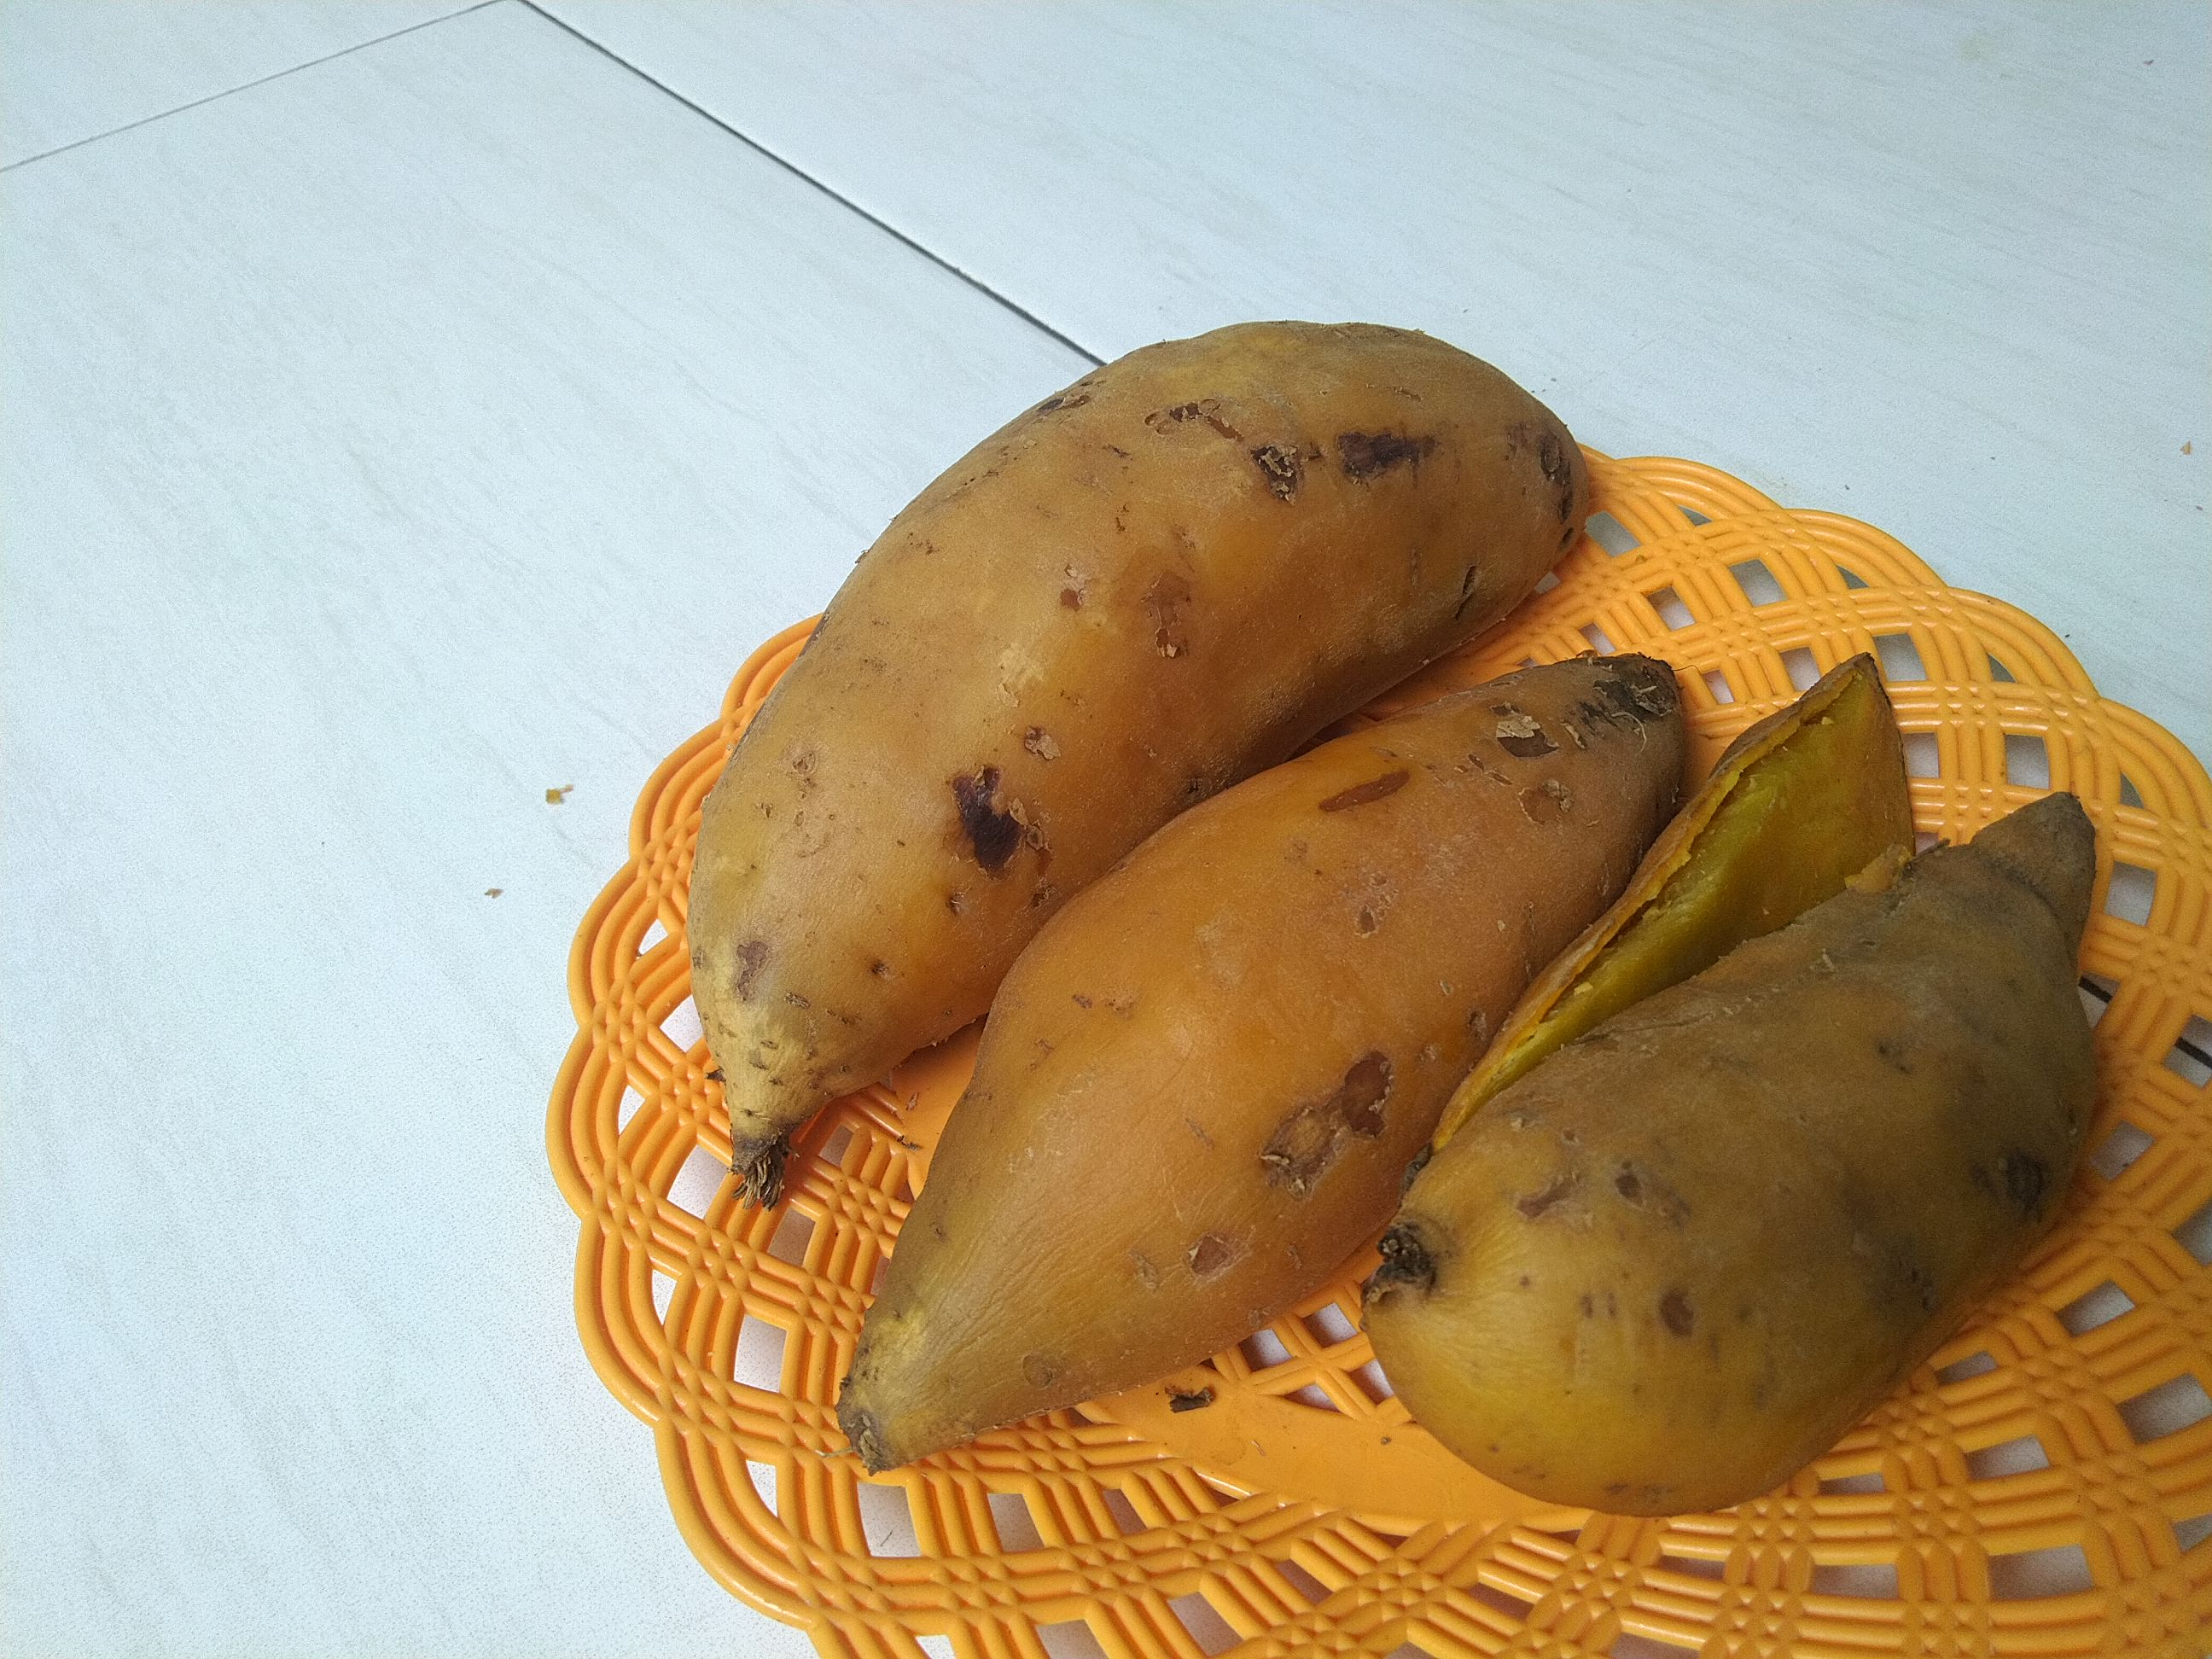ubi cilembu: (676, 295, 1585, 1211), (824, 634, 1707, 1493), (1369, 653, 2144, 1511)
